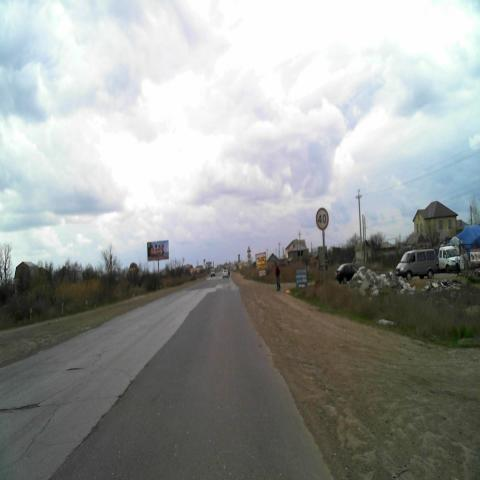3_24: (316, 207, 329, 230)
